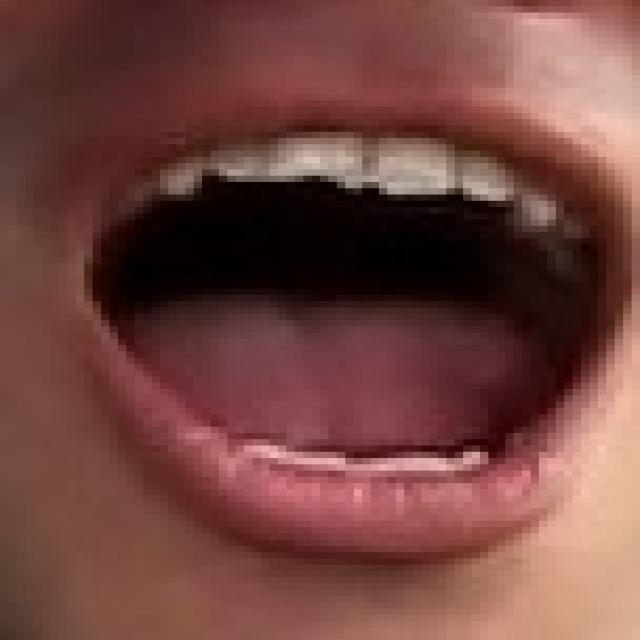open-mouth: (68, 87, 632, 558)
